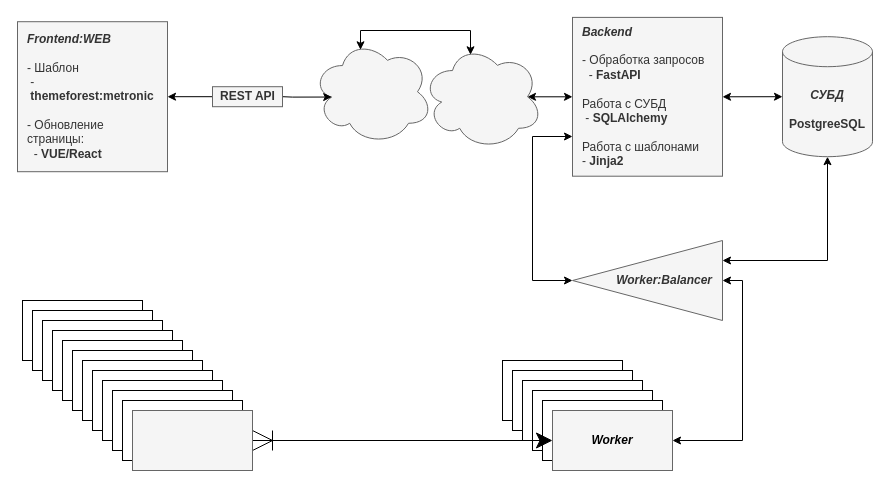
This 890x489 diagram has some shape labels left out. Each missing label, with the centre of its shape:
HTTP Gunicorn: the point at 482,96
ReverseProxy NGINX: the point at 372,91
Telegram Pyrogram: the point at 192,440
